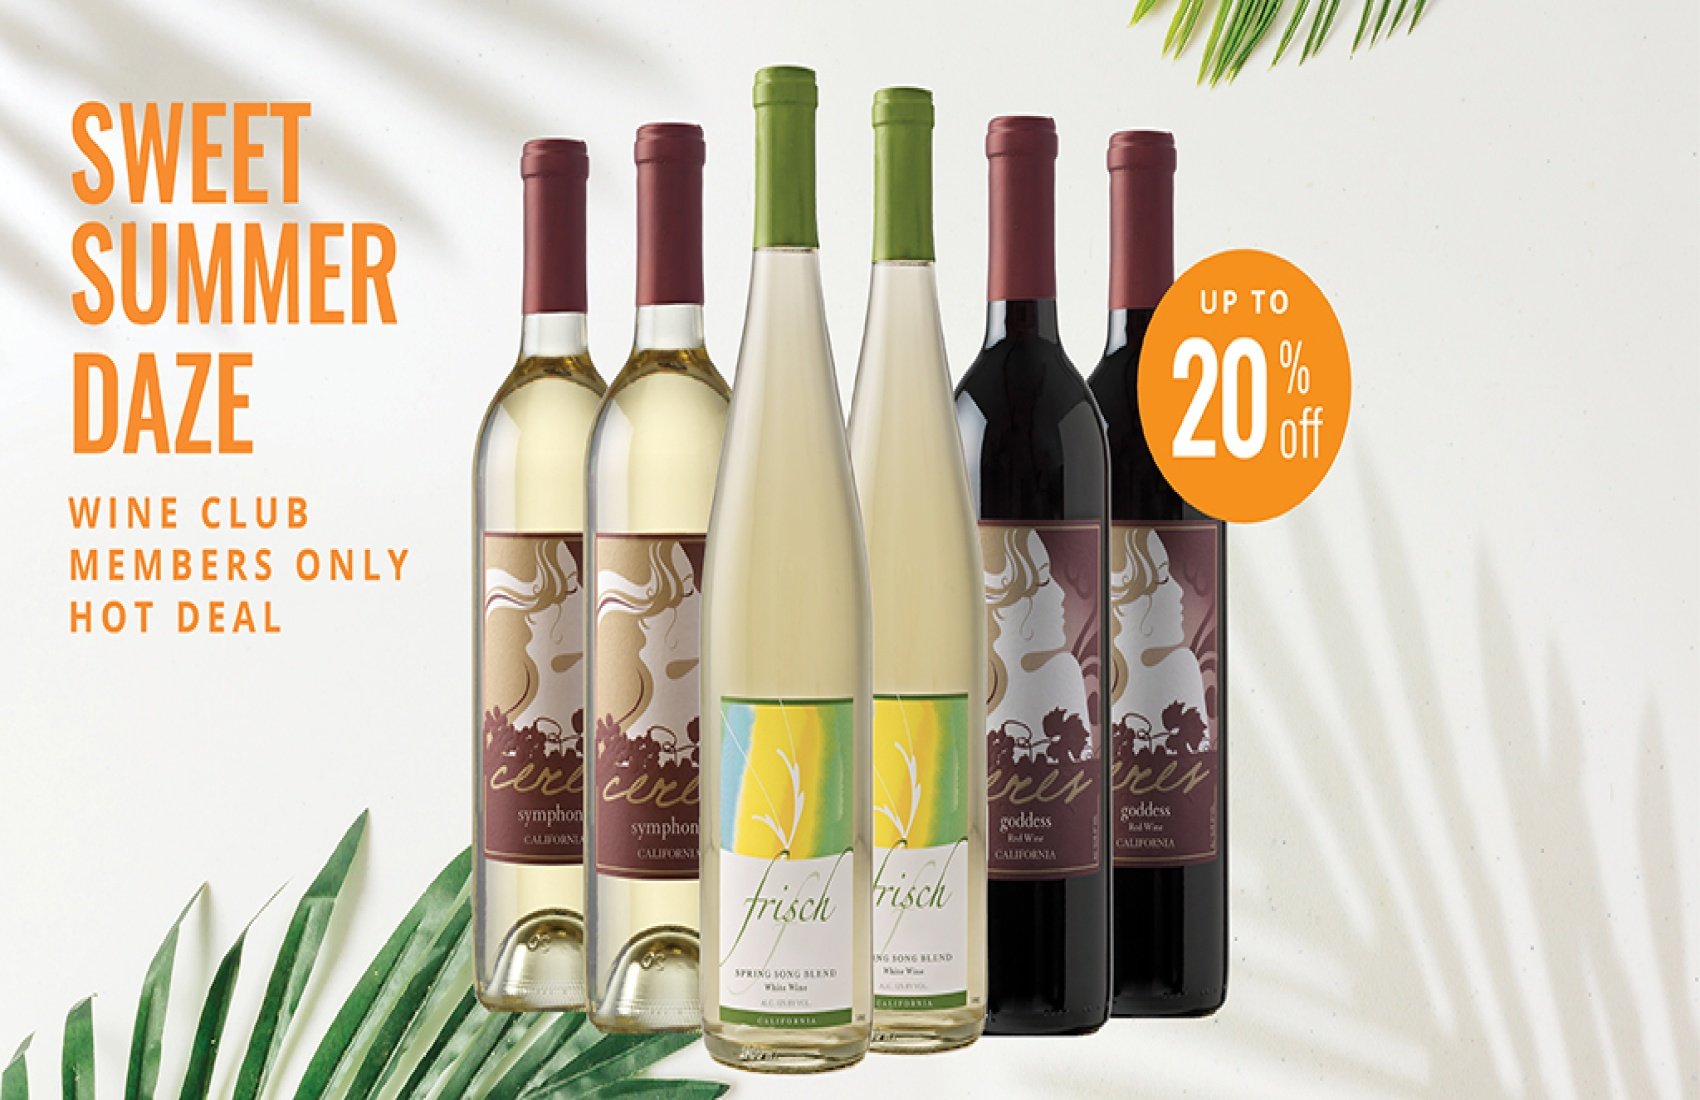wine: (708, 84, 869, 1064), (867, 66, 983, 1048), (586, 53, 701, 1036), (465, 36, 580, 1018), (1113, 38, 1228, 1019), (988, 50, 1102, 1031)
